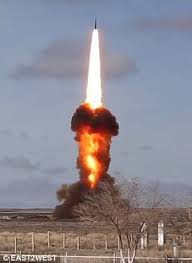ten_lua: (88, 14, 103, 34)
